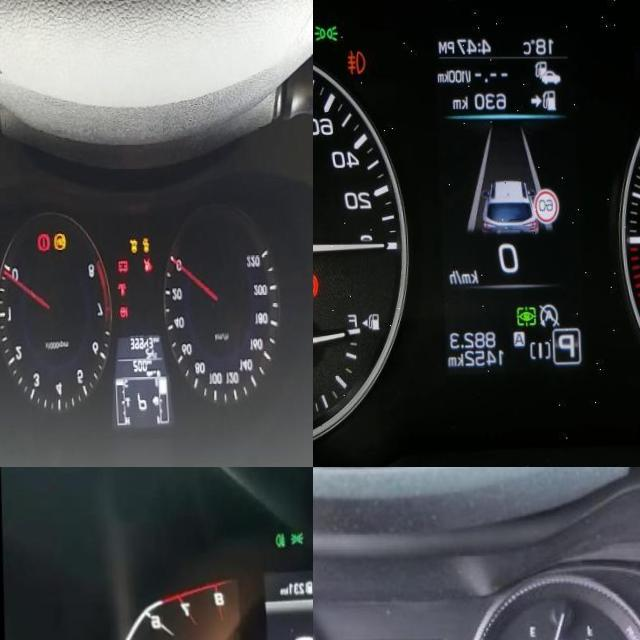Electronic Power Steering: (115, 307, 126, 320)
High Engine Coolant Temperature: (115, 284, 124, 298)
